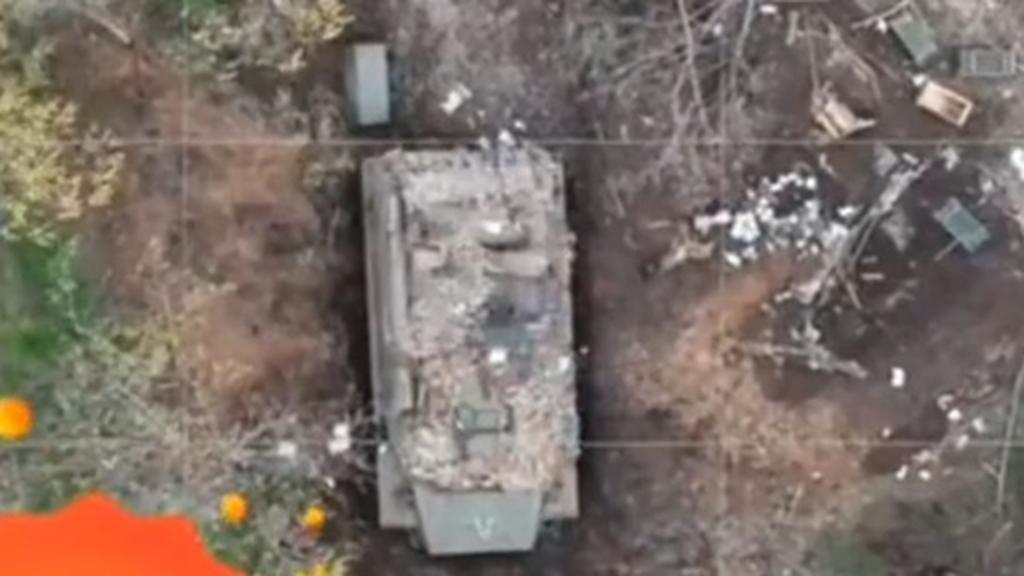APC-IFV: (352, 130, 584, 560)
